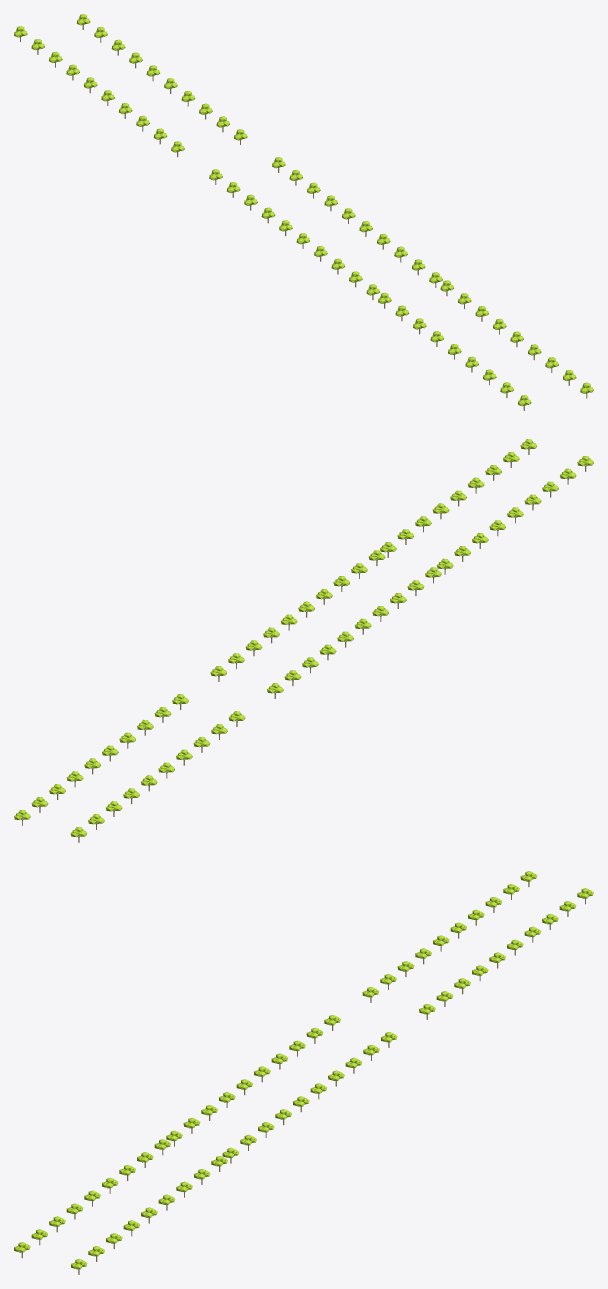
File: thonk_spin_03_fix2.fbx
3 views of the same model, one above another, from view 1: azimuth 30°, elevation 25°; view 2: azimuth 150°, elevation 25°; view 3: azimuth 330°, elevation 25° (orthographic).
Parts seen in each view (by area): view 1: Icosphere.064, Icosphere.076, Icosphere.075, Icosphere.168, Icosphere.013, Icosphere.074; view 2: Icosphere.075, Icosphere.064, Icosphere.076, Icosphere.168, Icosphere.074, Icosphere.013; view 3: Icosphere.075, Icosphere.076, Icosphere.064, Icosphere.168, Icosphere.013, Icosphere.074.
Part boxes in pixels (x1,y1,x2,y2): Icosphere.064: (209, 169, 379, 299); Icosphere.076: (77, 14, 247, 144); Icosphere.075: (272, 157, 442, 287); Icosphere.168: (14, 26, 184, 157); Icosphere.013: (378, 292, 531, 410); Icosphere.074: (440, 280, 593, 398); Icosphere.075: (210, 550, 385, 681); Icosphere.064: (267, 567, 441, 698); Icosphere.076: (14, 694, 188, 825); Icosphere.168: (70, 711, 245, 842); Icosphere.074: (380, 439, 536, 557); Icosphere.013: (437, 456, 593, 574); Icosphere.075: (222, 1032, 397, 1163); Icosphere.076: (419, 888, 593, 1019); Icosphere.064: (166, 1015, 340, 1146); Icosphere.168: (362, 871, 537, 1002); Icosphere.013: (14, 1139, 170, 1258); Icosphere.074: (71, 1156, 227, 1274).
Size of the model in its own units: 2974 by 615 by 36928.
